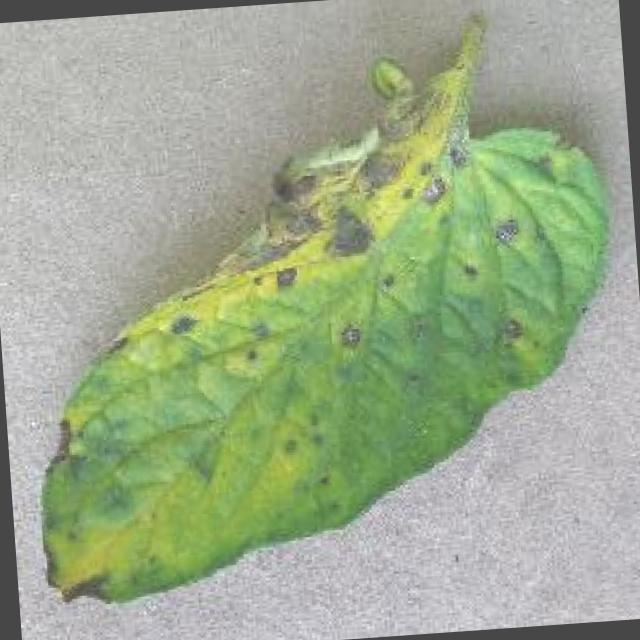leaf blight: (41, 15, 599, 601)
